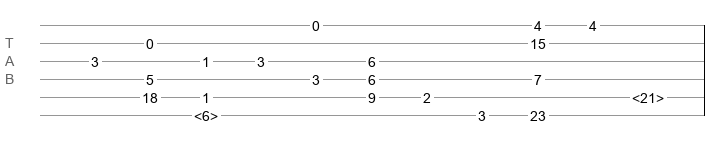0: (146, 36, 154, 46), (312, 18, 320, 28)
1: (202, 54, 210, 64), (202, 90, 210, 100)
15: (530, 36, 546, 46)
18: (142, 90, 158, 100)
2: (423, 90, 431, 100)
23: (530, 108, 546, 118)
3: (91, 54, 99, 64), (257, 54, 265, 64), (312, 72, 320, 82), (478, 108, 486, 118)
4: (534, 18, 542, 28), (589, 18, 597, 28)
5: (146, 72, 154, 82)
6: (368, 54, 376, 64), (368, 72, 376, 82)
7: (534, 72, 542, 82)
9: (368, 90, 376, 100)
harmonic: (632, 90, 664, 100), (194, 108, 218, 118)
